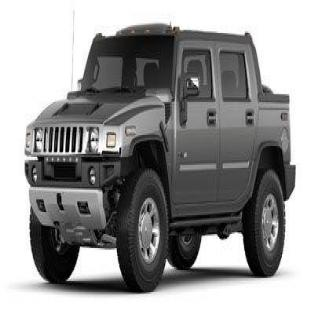Auto: (23, 22, 296, 289)
